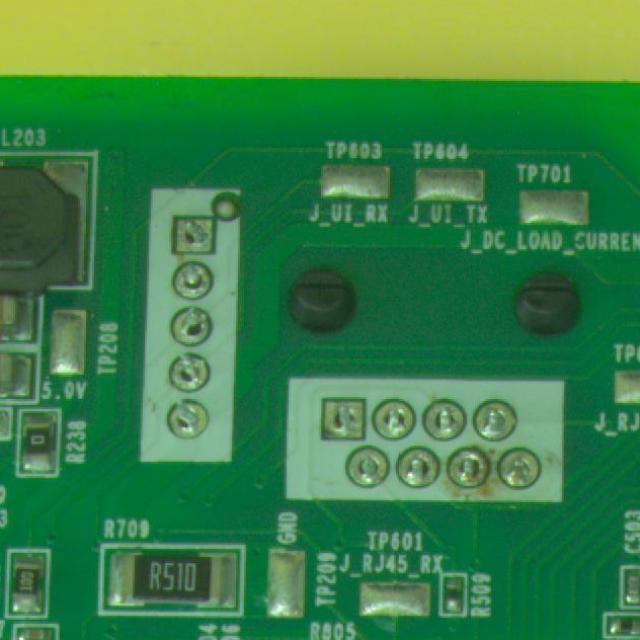Insufficient solder: (154, 208, 220, 262), (165, 259, 215, 315), (316, 397, 370, 447), (158, 352, 219, 394), (428, 396, 469, 446), (396, 442, 438, 490), (374, 399, 418, 444), (168, 400, 214, 442), (170, 307, 217, 347), (504, 448, 546, 492), (344, 444, 384, 486), (450, 454, 488, 492)
